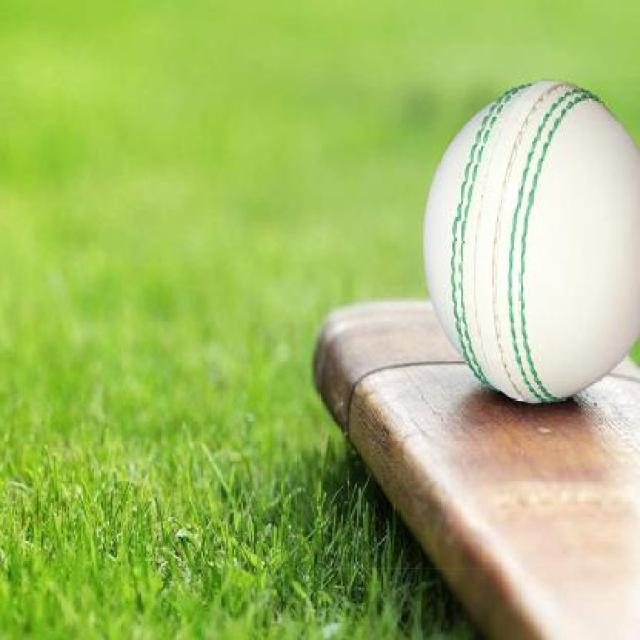ball: (376, 50, 640, 448)
